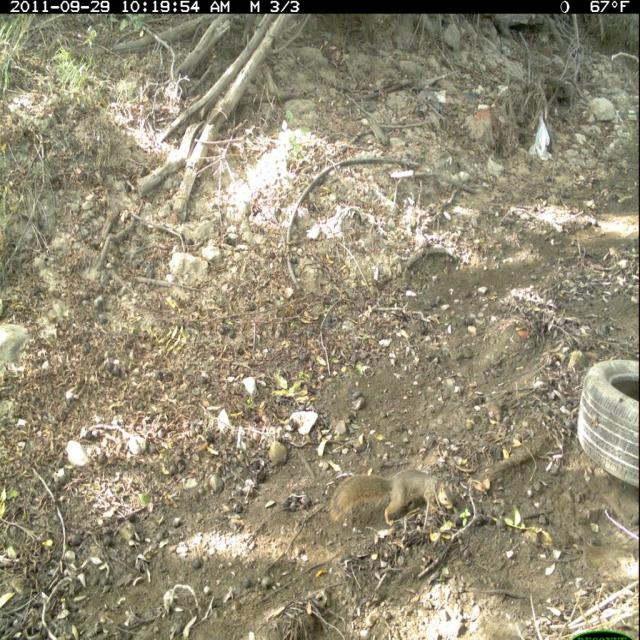squirrel: (320, 457, 461, 535)
